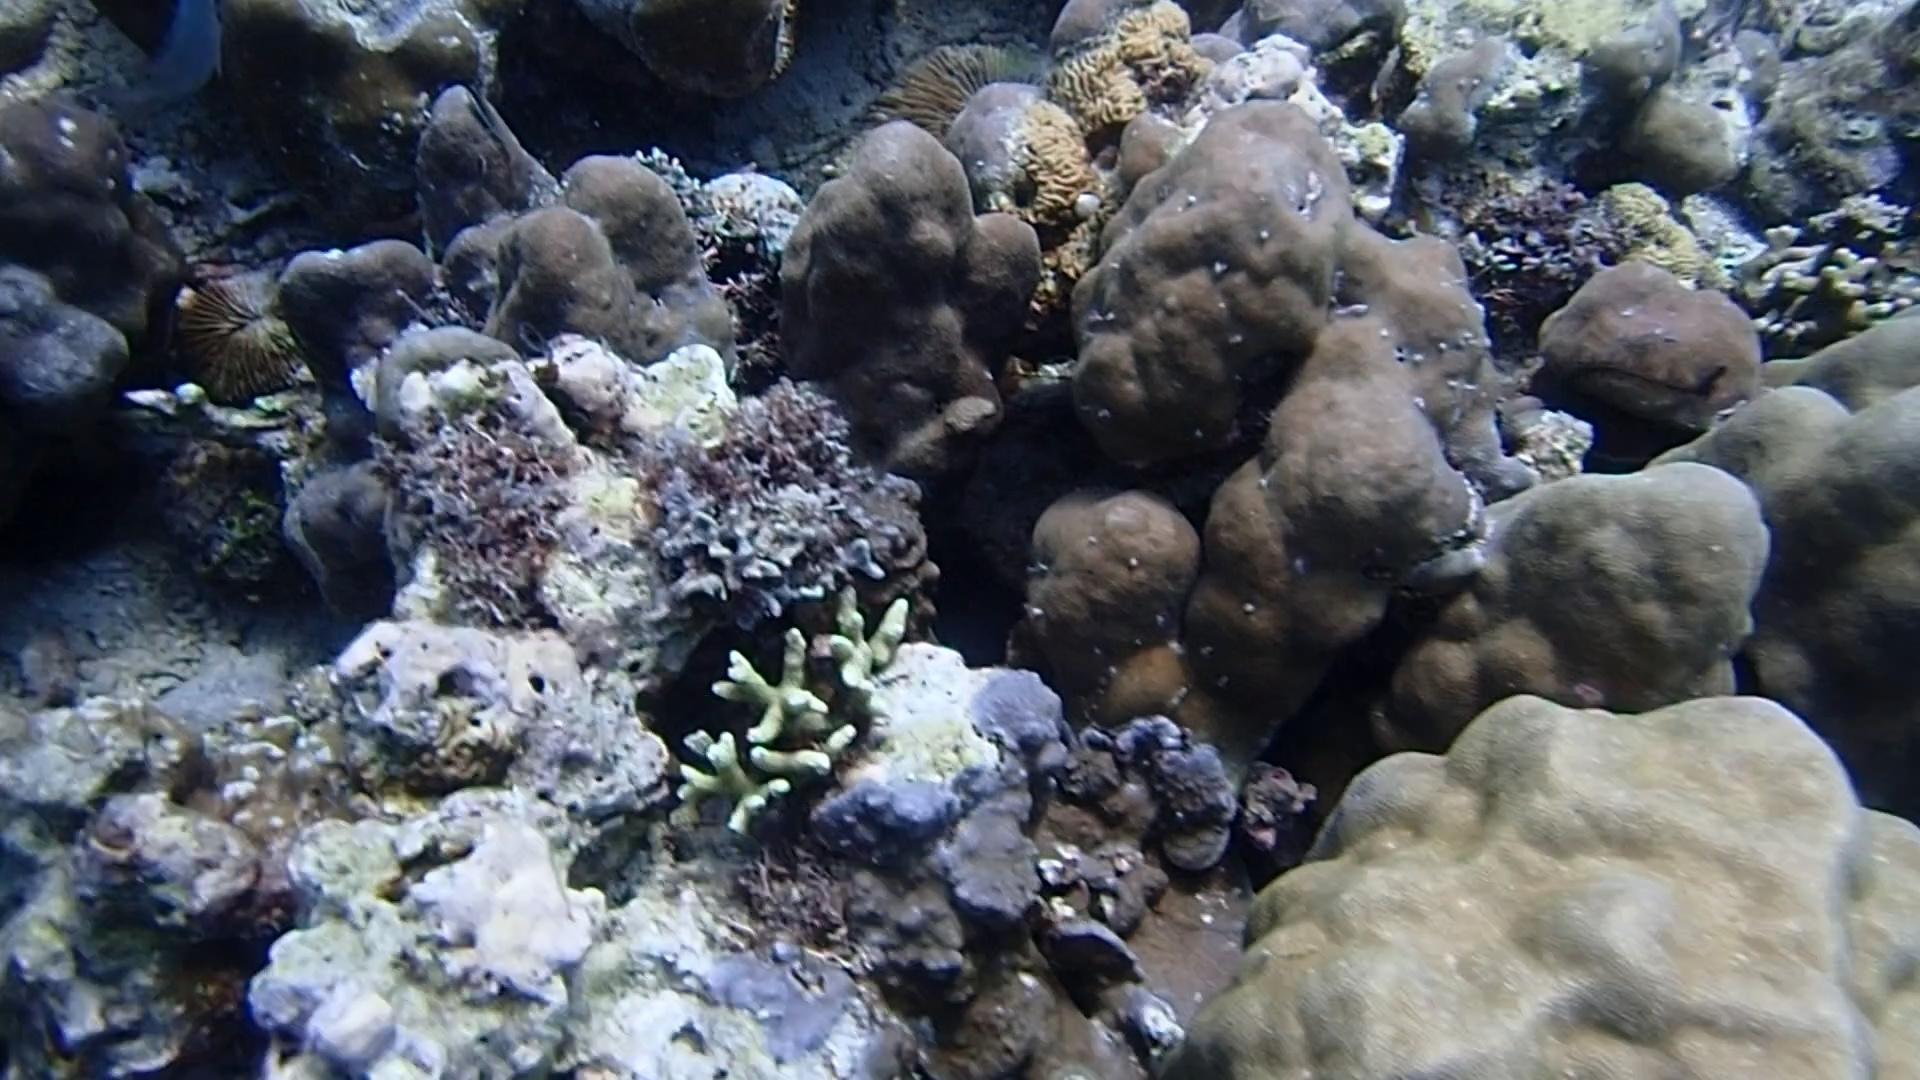Blue Fish Two: (79, 0, 243, 131)
